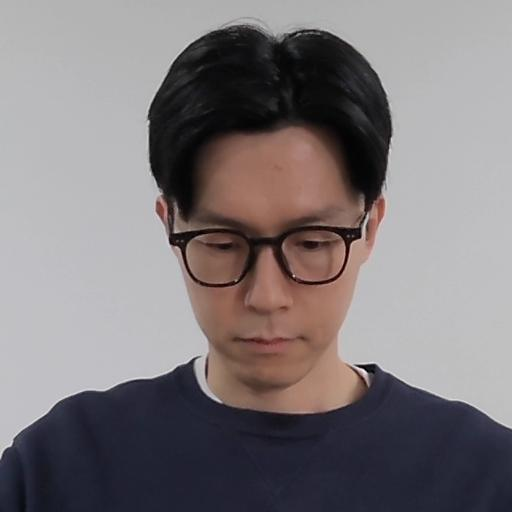no_glasses: (134, 19, 408, 385)
